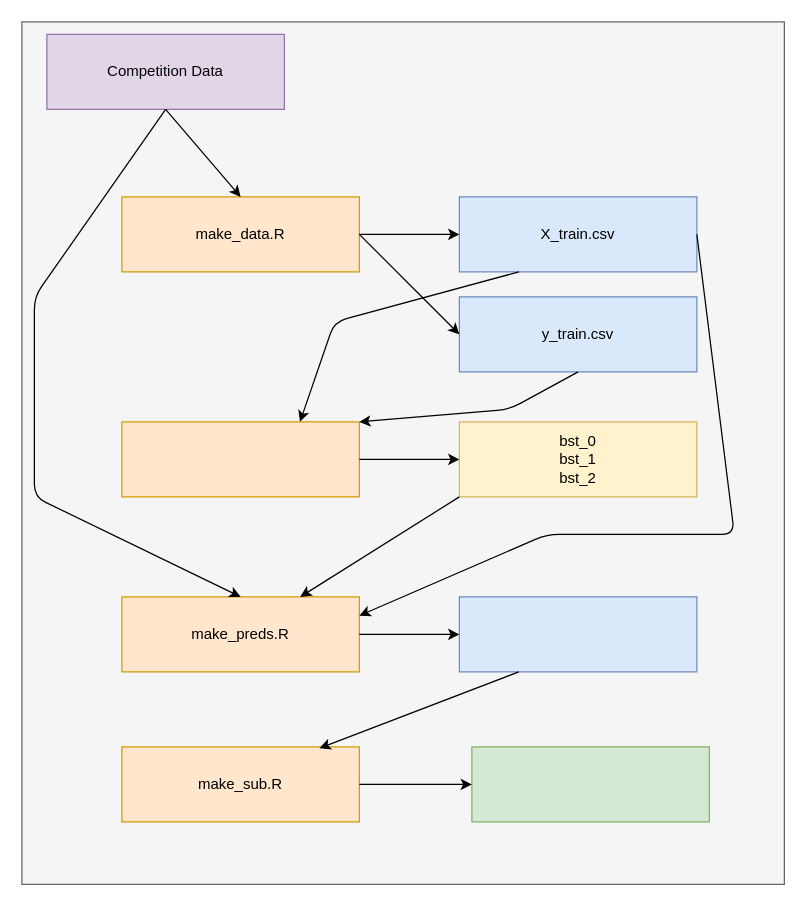
Some shapes in this 806 by 906 pixel diagram are drawn without their labels. The shapes that lost their labels are listed below. From the top down, each one's centre as x and y in pixels, then its label:
point (240, 459): make_models.R
point (577, 634): final_pred_0.csv final_pred_1.csv final_pred_2.csv
point (590, 784): final_submission.csv
